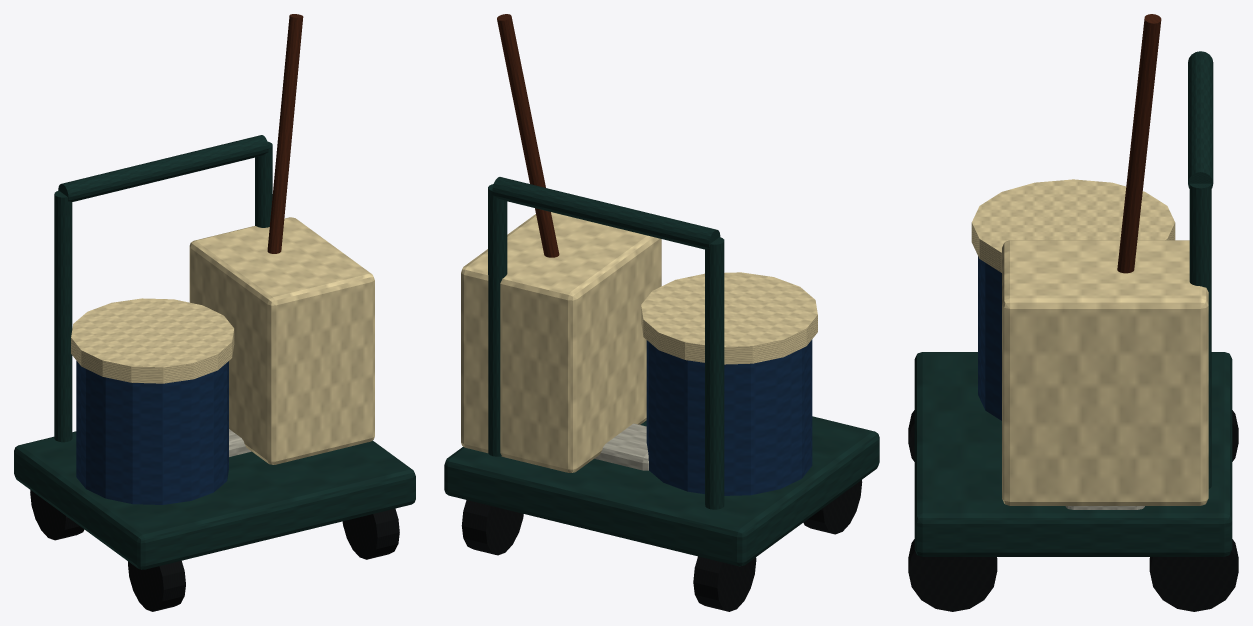
The model's file is cleaning-cart-v1-CjJ18EQS.glb.
The picture shows the model from 3 angles, left to right: view 1: azimuth 30°, elevation 25°; view 2: azimuth 150°, elevation 25°; view 3: azimuth 270°, elevation 25°; orthographic projection. The views are drawn at different scales.
Parts seen in each view (by area): view 1: Bucket lip, Trolley chassis, Mop bucket, Wheel, Mop shaft; view 2: Bucket lip, Trolley chassis, Mop bucket, Wheel, Mop shaft, Mop head; view 3: Bucket lip, Trolley chassis, Wheel, Mop shaft, Mop bucket.
Boxes of the visible parts, x1=… form: Bucket lip: x1=71, y1=217, x2=374, y2=464; Trolley chassis: x1=14, y1=135, x2=415, y2=569; Mop bucket: x1=76, y1=361, x2=228, y2=504; Wheel: x1=30, y1=490, x2=399, y2=611; Mop shaft: x1=267, y1=14, x2=303, y2=253; Bucket lip: x1=461, y1=212, x2=817, y2=472; Trolley chassis: x1=444, y1=177, x2=879, y2=566; Mop bucket: x1=646, y1=339, x2=812, y2=495; Wheel: x1=461, y1=480, x2=862, y2=611; Mop shaft: x1=497, y1=14, x2=559, y2=257; Mop head: x1=594, y1=423, x2=648, y2=470; Bucket lip: x1=971, y1=179, x2=1208, y2=505; Trolley chassis: x1=914, y1=51, x2=1232, y2=556; Wheel: x1=908, y1=410, x2=1238, y2=611; Mop shaft: x1=1117, y1=14, x2=1161, y2=273; Mop bucket: x1=978, y1=256, x2=1001, y2=420.
Bounding box in the file's own units: 1.25 × 2.05 × 1.04.
Materials: 6 (6 with a texture image).
